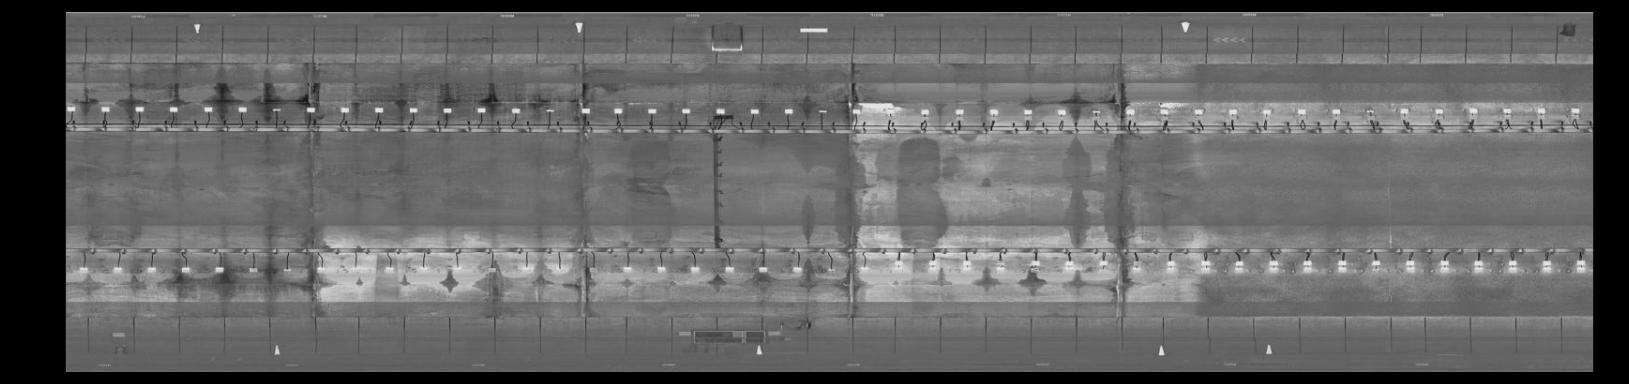light: (1296, 256, 1316, 277), (1330, 258, 1352, 276), (1091, 258, 1117, 272), (1369, 257, 1390, 274), (73, 263, 94, 278), (583, 263, 604, 278), (1263, 257, 1281, 275), (1290, 102, 1310, 117), (880, 104, 901, 118), (1434, 258, 1456, 272), (143, 262, 161, 278), (1021, 104, 1039, 120), (1197, 259, 1216, 275), (243, 264, 263, 278), (685, 264, 704, 278), (1118, 104, 1138, 118), (1400, 258, 1420, 273), (176, 263, 196, 276), (1159, 259, 1180, 273), (438, 103, 456, 118), (1231, 260, 1249, 276), (1058, 259, 1079, 272), (1357, 104, 1379, 116), (516, 263, 536, 276), (1190, 106, 1209, 119), (551, 264, 571, 276), (994, 258, 1011, 274), (1129, 260, 1146, 276), (1462, 106, 1483, 118), (1535, 260, 1556, 273), (382, 262, 400, 276), (336, 103, 354, 116), (890, 260, 909, 274), (1496, 105, 1518, 116), (483, 264, 503, 276), (787, 264, 807, 276), (950, 106, 969, 118), (1565, 104, 1584, 116), (372, 102, 388, 117), (201, 102, 217, 116), (1054, 104, 1071, 118), (1029, 258, 1045, 273), (1157, 105, 1172, 121), (1328, 104, 1344, 118), (267, 103, 285, 116), (651, 263, 669, 276), (916, 105, 934, 118), (1572, 259, 1590, 273), (1469, 259, 1487, 273), (211, 266, 230, 278), (575, 104, 593, 116), (1258, 106, 1277, 118), (303, 102, 319, 116), (281, 262, 296, 276), (960, 257, 974, 273), (747, 104, 765, 116), (1224, 104, 1241, 116), (1503, 258, 1524, 269), (472, 105, 490, 116), (508, 105, 527, 116), (720, 265, 739, 276), (1430, 106, 1448, 117), (620, 263, 636, 276), (987, 107, 1003, 120), (97, 103, 113, 115), (234, 103, 250, 115), (109, 263, 124, 276), (610, 104, 625, 116), (925, 258, 940, 271), (1088, 106, 1103, 118), (1396, 104, 1412, 116), (449, 260, 465, 272), (677, 104, 694, 115), (133, 103, 146, 116), (755, 265, 770, 277), (1535, 104, 1550, 116), (644, 105, 660, 116), (413, 263, 432, 272), (314, 264, 330, 274), (166, 103, 180, 115), (406, 105, 421, 116), (347, 263, 363, 273), (824, 266, 840, 275), (711, 106, 727, 115), (779, 107, 796, 116), (850, 107, 866, 116), (66, 103, 80, 114), (858, 265, 874, 274), (814, 107, 829, 116), (543, 106, 557, 115)
